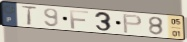3: (94, 11, 114, 33)
8: (147, 16, 165, 36)
9: (43, 8, 60, 28)
F: (68, 9, 90, 30)
P: (121, 13, 144, 34)
T: (19, 5, 39, 27)
